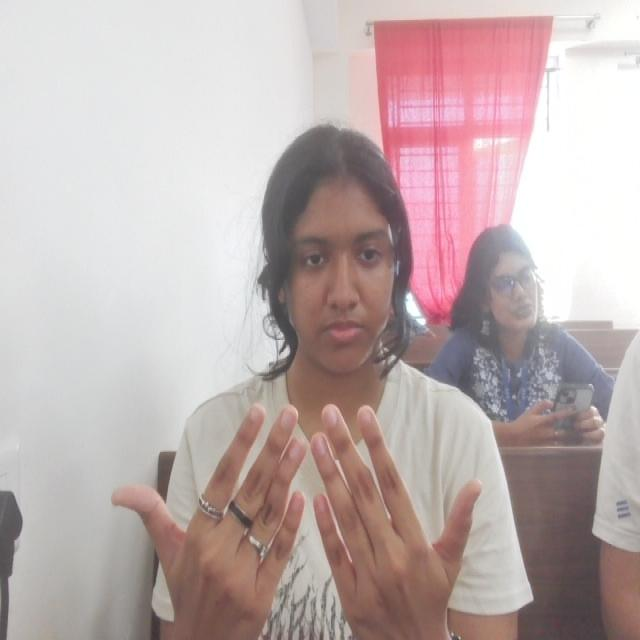thankyou: (109, 400, 488, 640)
